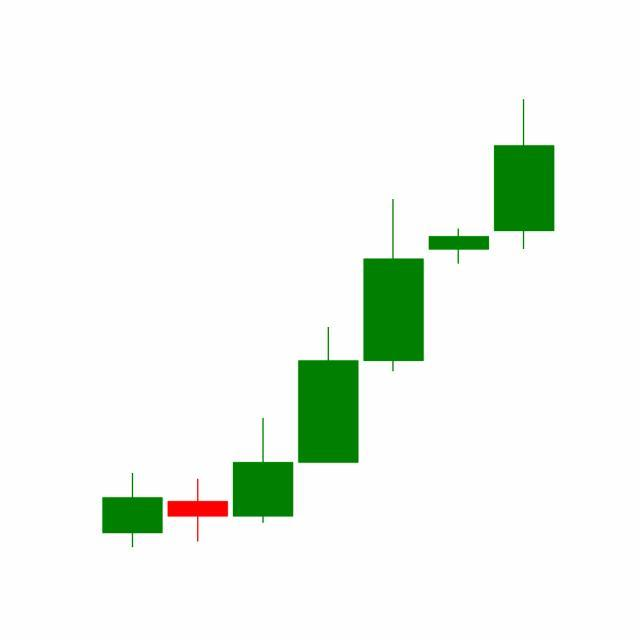Hikkake Pattern: (229, 99, 555, 528)
